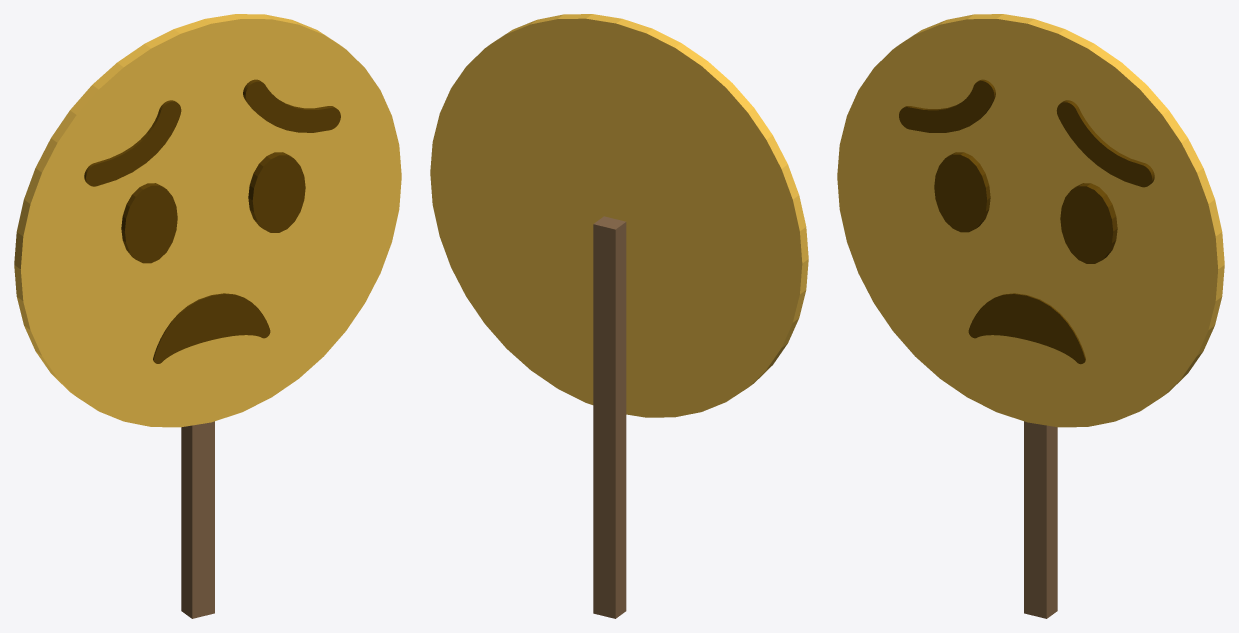
File: inquietude.glb
The picture shows the model from 3 angles, left to right: view 1: azimuth 30°, elevation 25°; view 2: azimuth 150°, elevation 25°; view 3: azimuth 330°, elevation 25°; orthographic projection. The views are drawn at different scales.
Size of the model in its own units: 1 by 1.5 by 0.105.
